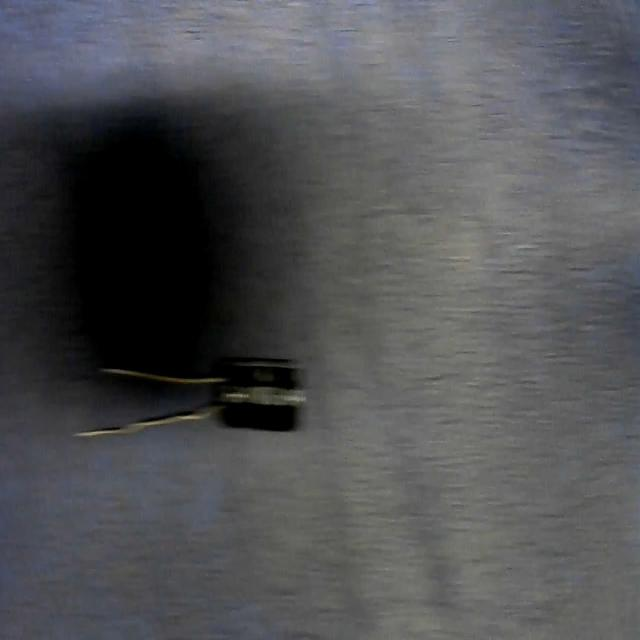capacitor: (85, 357, 301, 448)
